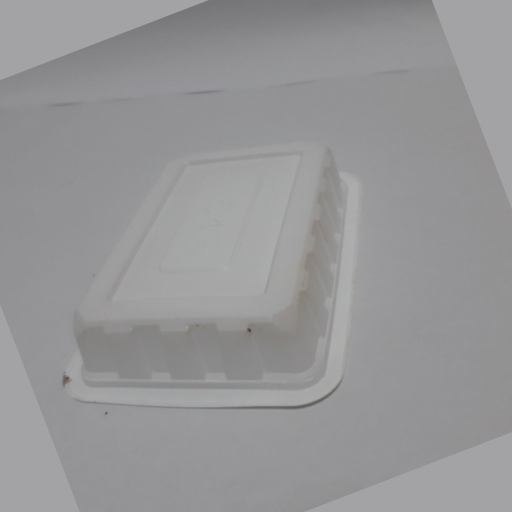Plastic_4: (50, 141, 365, 408)
